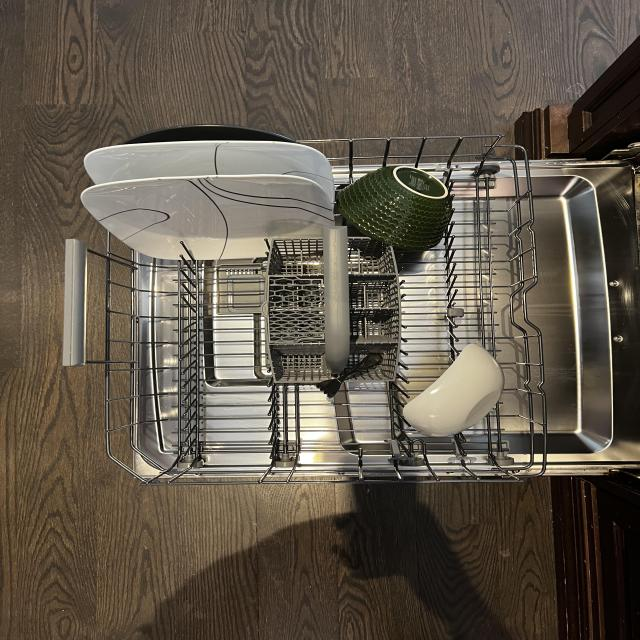Bowl: (338, 162, 452, 251), (403, 341, 507, 438)
Plate: (78, 175, 340, 261)
